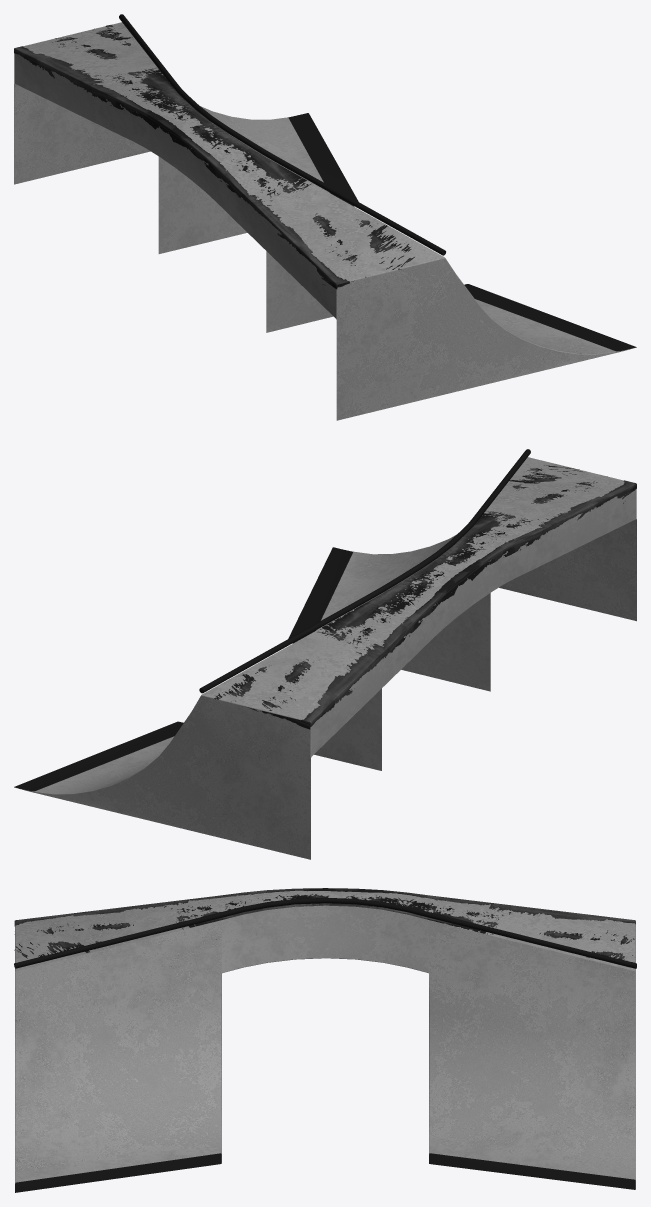
File: quarterA.fbx
3 views of the same model, one above another, from view 1: azimuth 30°, elevation 25°; view 2: azimuth 150°, elevation 25°; view 3: azimuth 270°, elevation 25° (orthographic). The views are drawn at different scales.
Parts seen in each view (by area): view 1: quarterA, quarterAdecalc, quarterAcoping; view 2: quarterA, quarterAdecalc, quarterAcoping; view 3: quarterA, quarterAdecalc, quarterAcoping.
Boxes of the visible parts, bbox=[...] form: quarterA: bbox=[14, 22, 636, 420]; quarterAdecalc: bbox=[14, 25, 414, 289]; quarterAcoping: bbox=[119, 14, 445, 255]; quarterA: bbox=[14, 457, 636, 859]; quarterAdecalc: bbox=[214, 465, 636, 729]; quarterAcoping: bbox=[199, 449, 530, 693]; quarterA: bbox=[15, 890, 635, 1192]; quarterAdecalc: bbox=[14, 888, 635, 962]; quarterAcoping: bbox=[14, 897, 636, 968].
Size of the model in its own units: 485 by 274 by 903.
